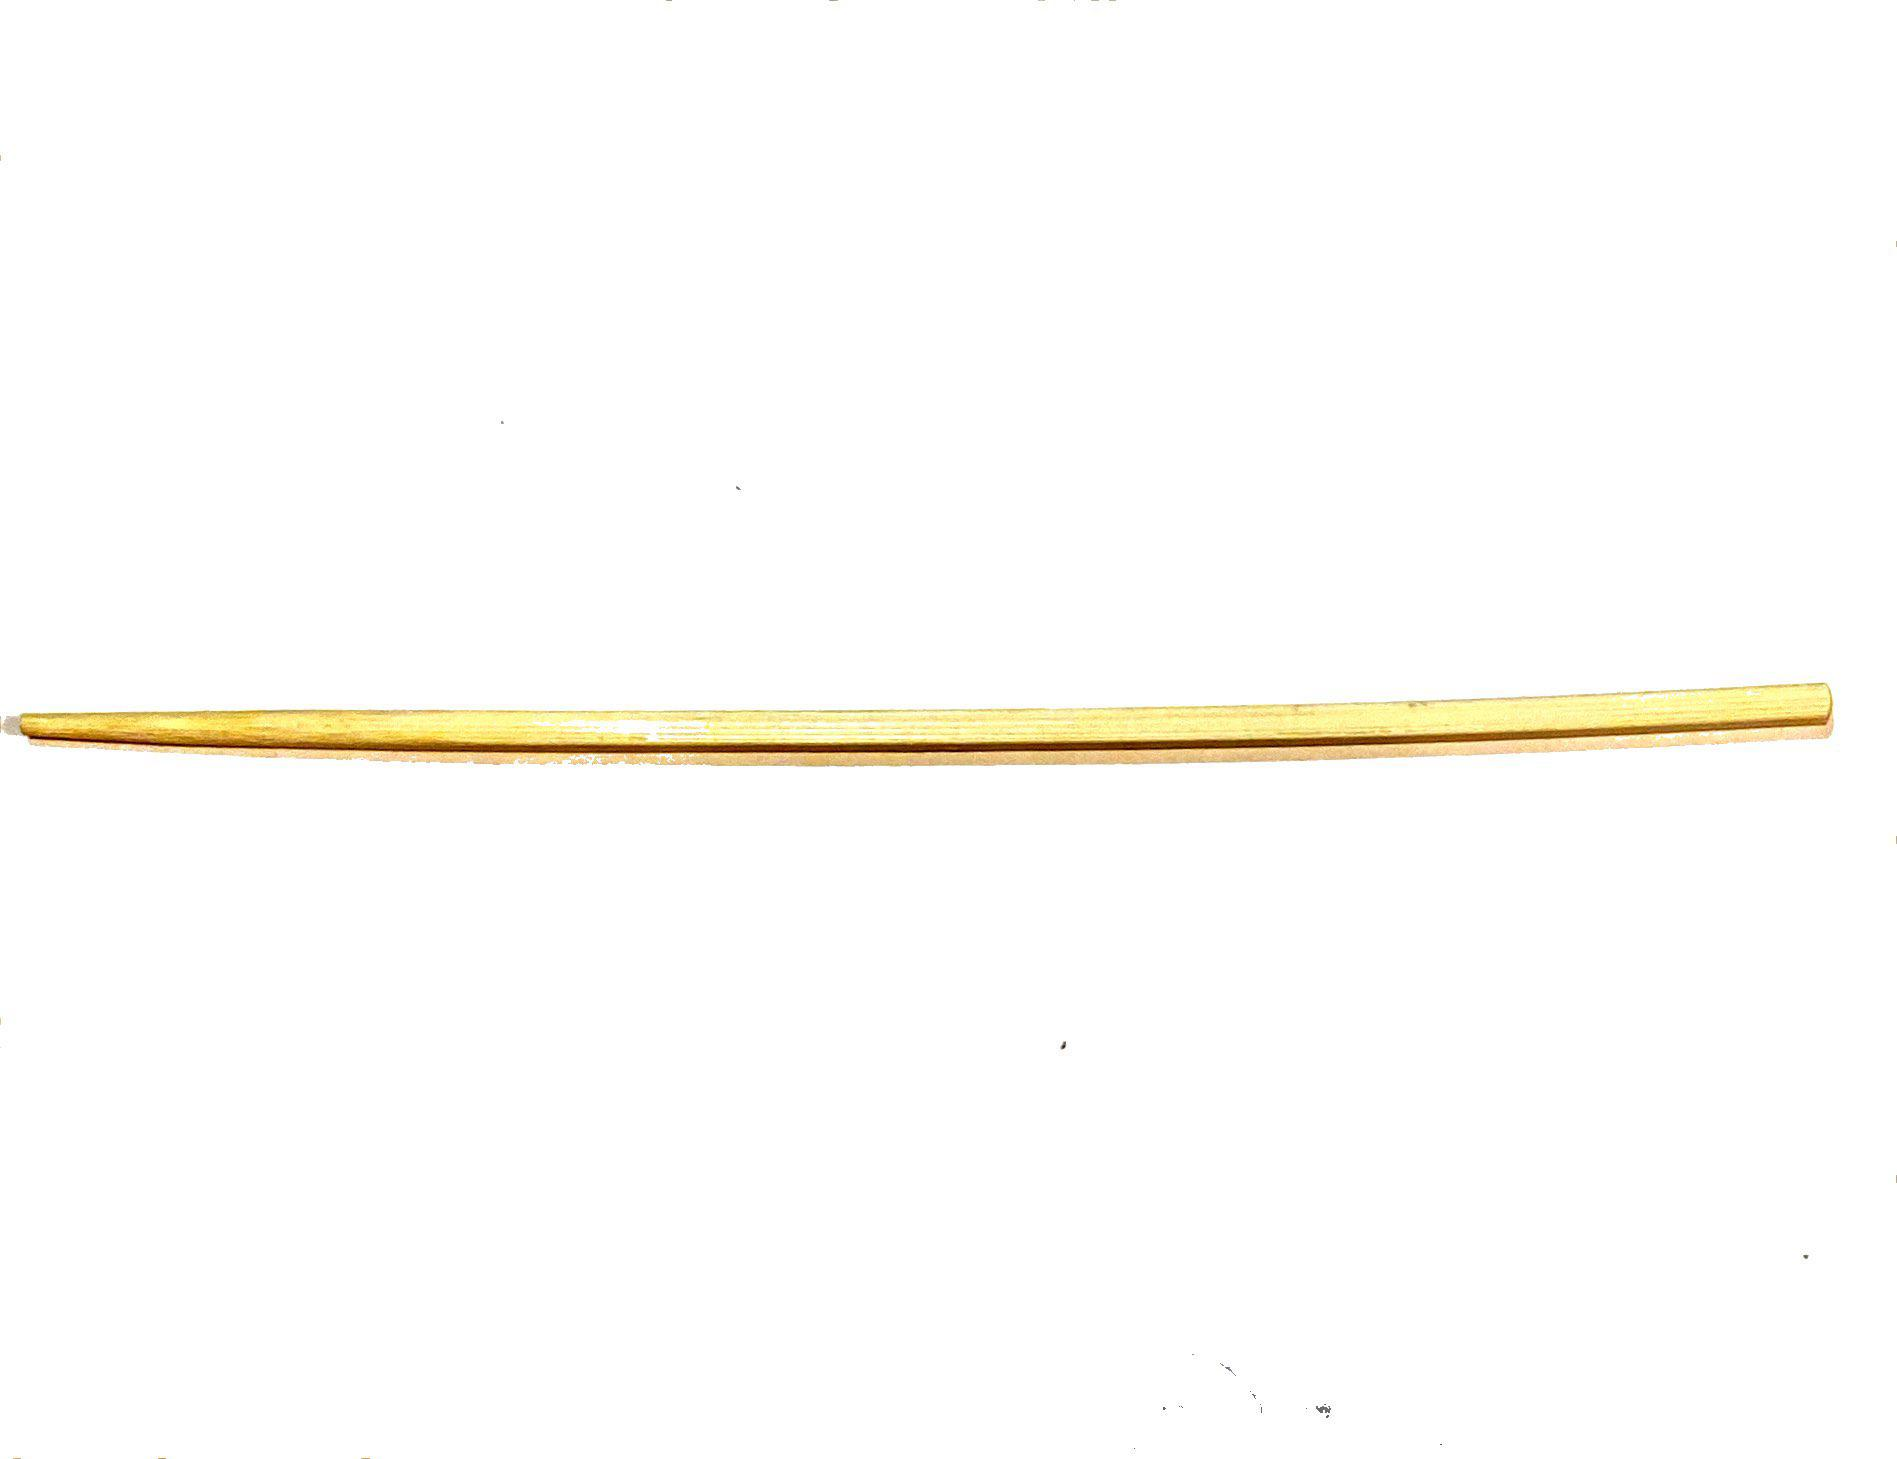Chopstick: (5, 589, 1897, 901)
